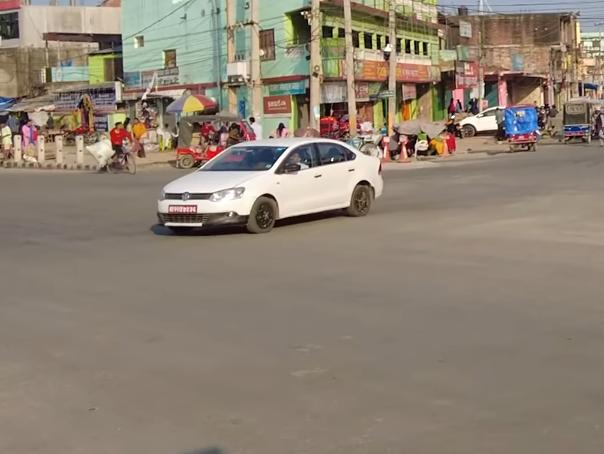car: (151, 130, 390, 239)
e-rickshaw: (173, 114, 254, 167), (563, 98, 602, 145), (504, 110, 539, 153)
